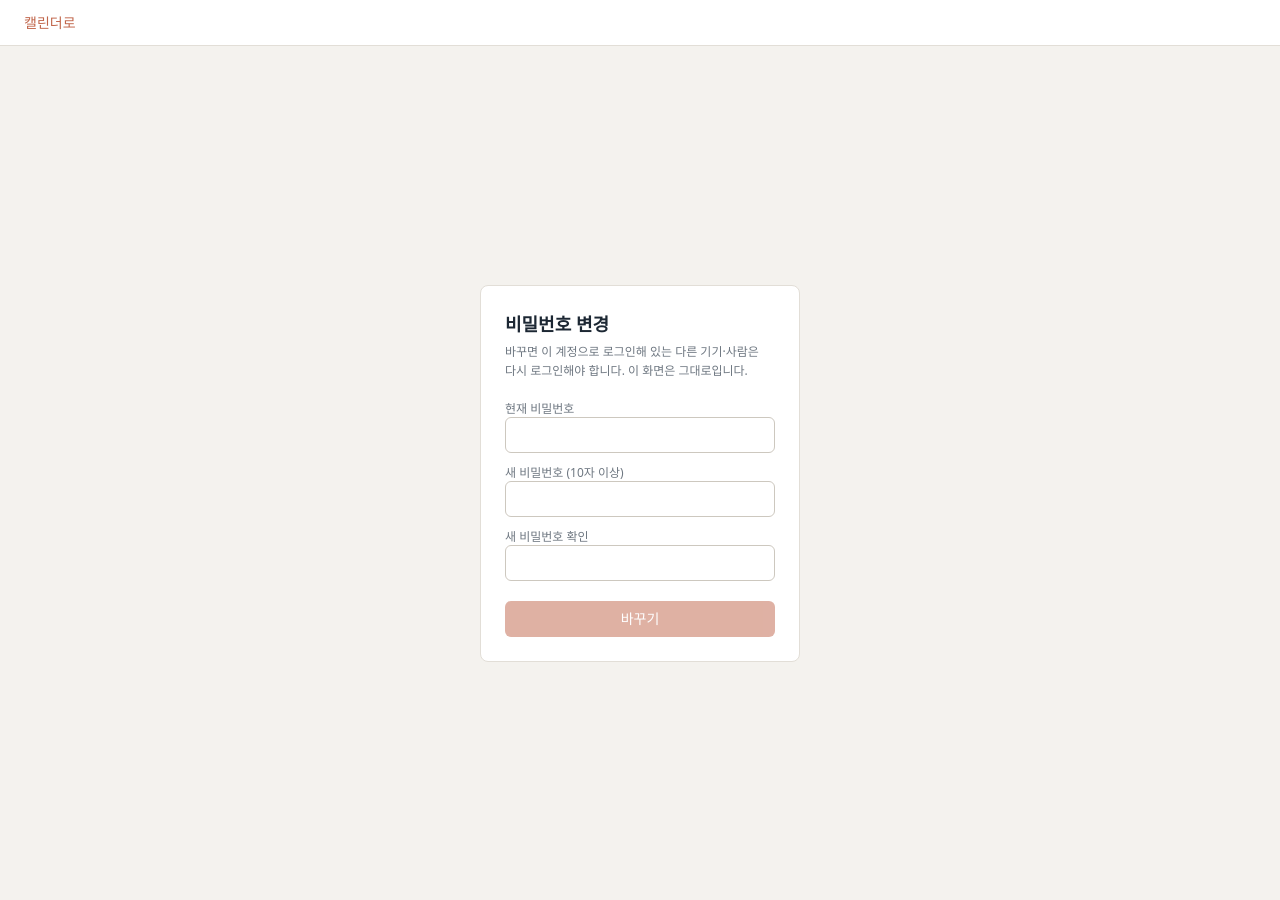
Scenario: 비밀번호 변경 화면 › 현재·새 비밀번호를 보내고 성공을 알린다. 로그인은 그대로다
In the password field labelled "현재 비밀번호": (640, 434) [505,416,775,452], type "지금비밀번호1234"
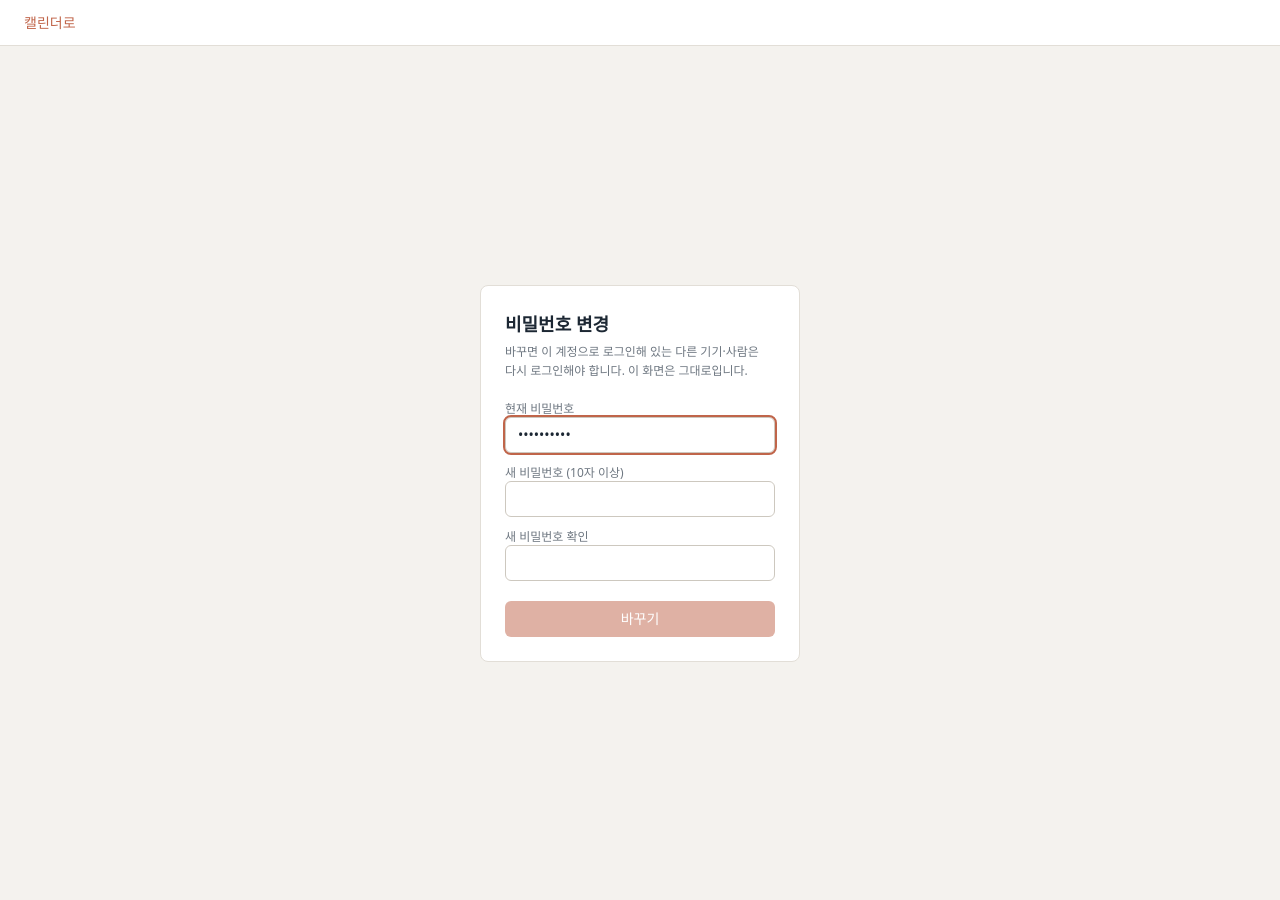
In the password field labelled "새 비밀번호 (10자 이상)": (640, 498) [505,480,775,516], type "새로운비밀번호5678"
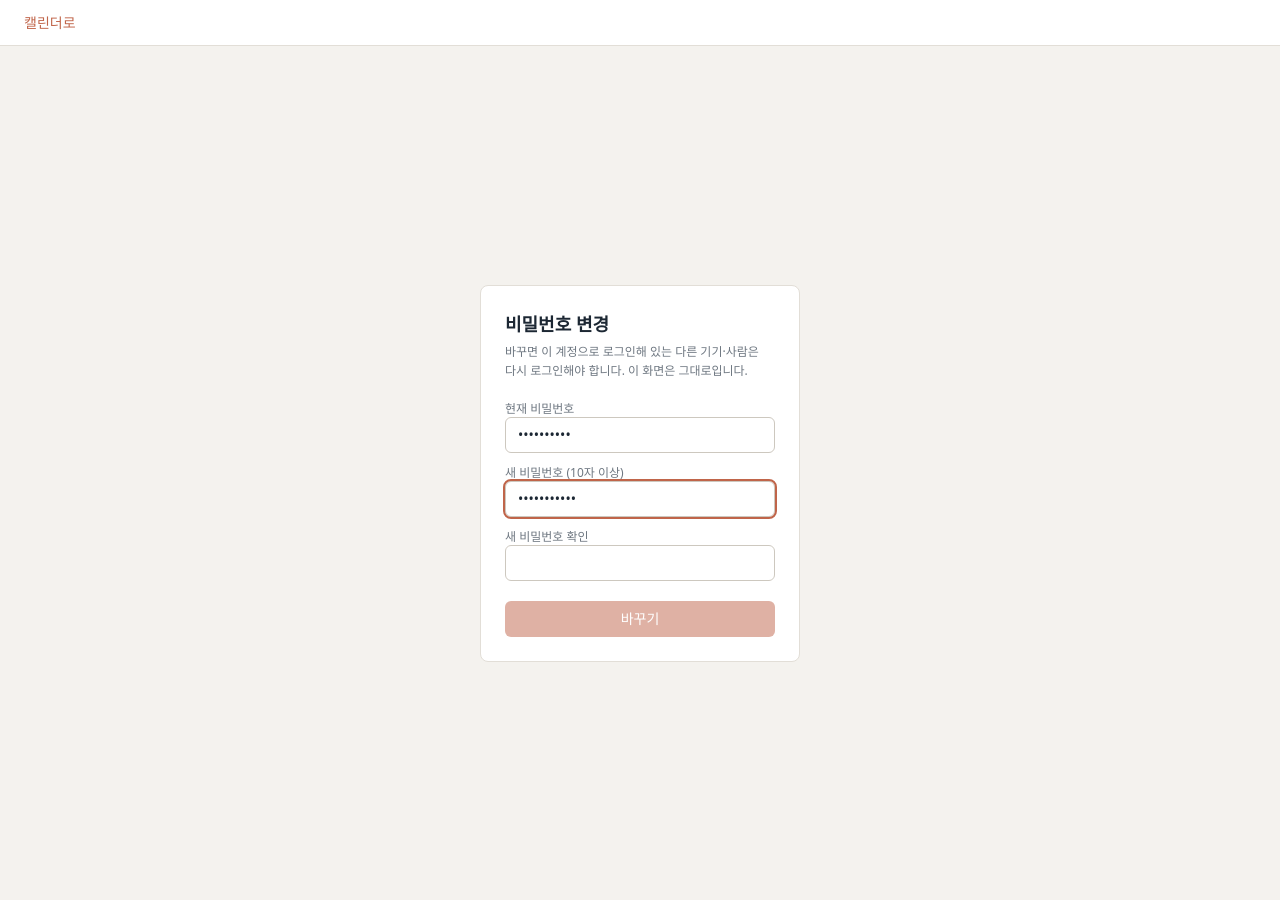
In the password field labelled "새 비밀번호 확인": (640, 562) [505,544,775,580], type "새로운비밀번호5678"
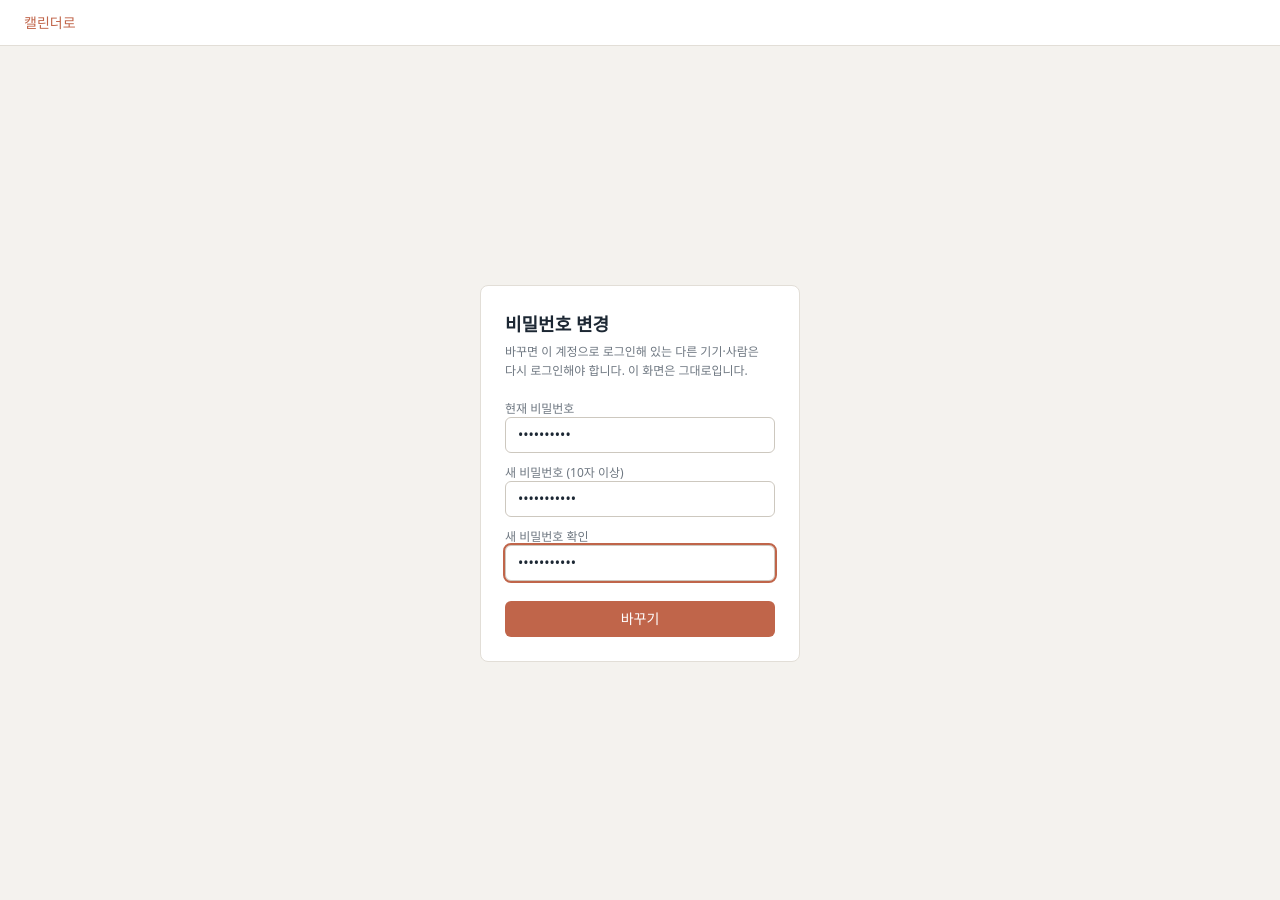
Click the button "바꾸기": (640, 618) [505,600,775,636]
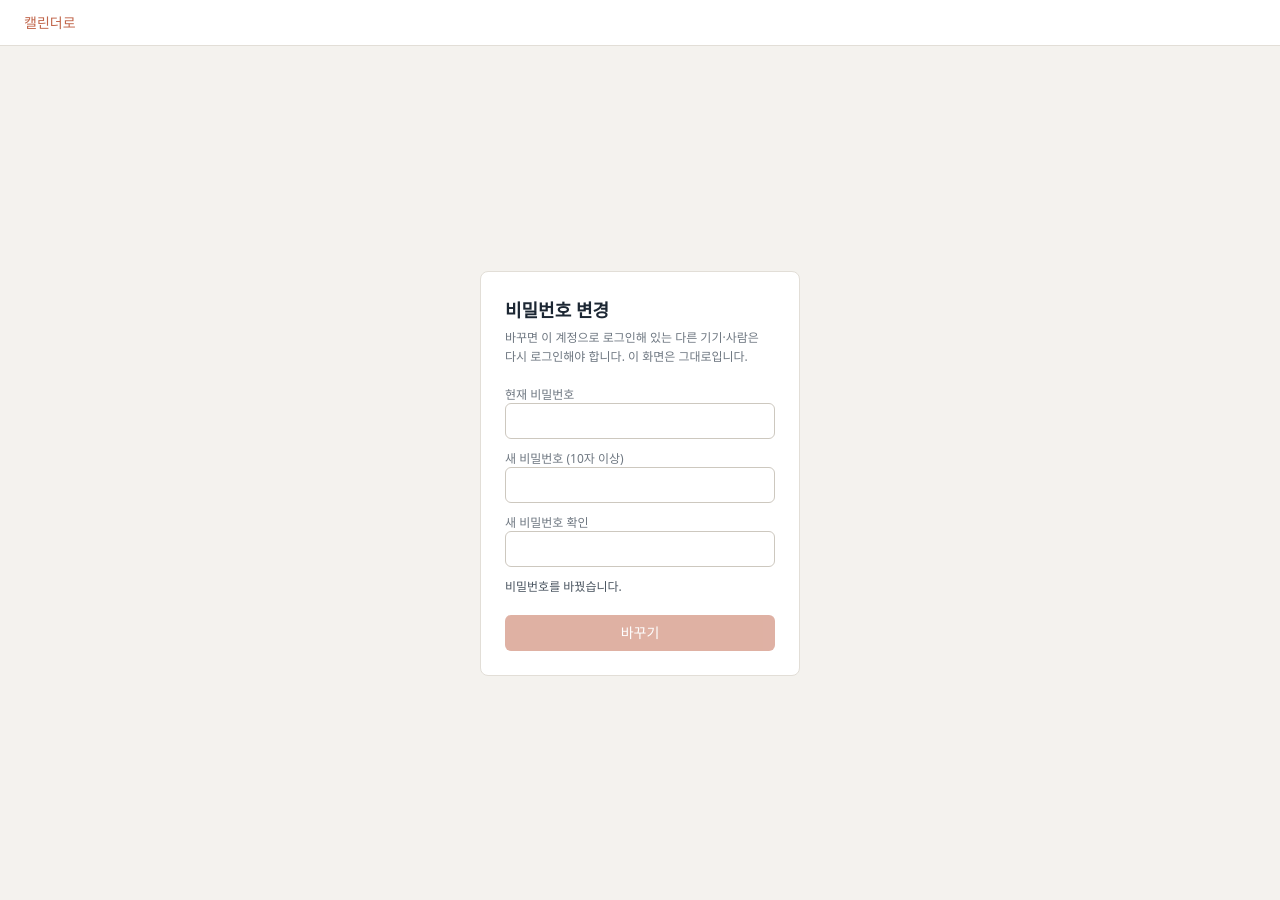
Expected: the message shows "바꿨습니다", [505,578,622,594]
